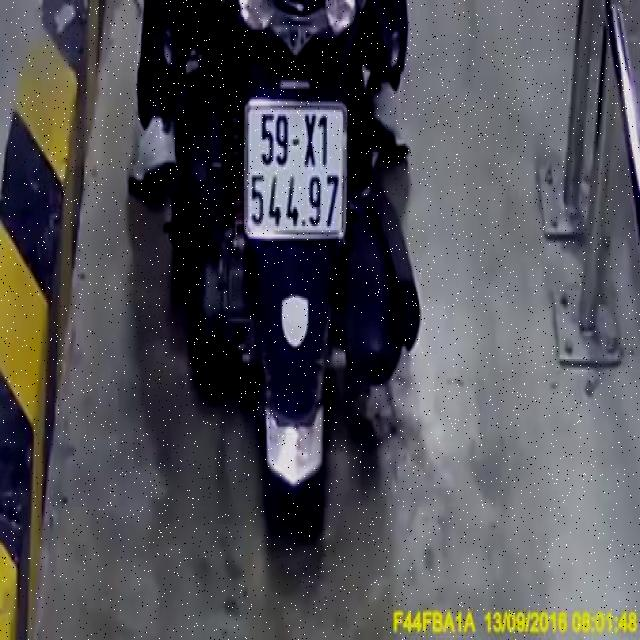1: (317, 111, 332, 171)
4: (283, 172, 302, 230), (267, 172, 283, 231)
5: (258, 110, 276, 168), (248, 171, 264, 230)
7: (323, 169, 339, 231)
9: (306, 172, 324, 232), (274, 111, 292, 168)
X: (303, 110, 319, 171)
